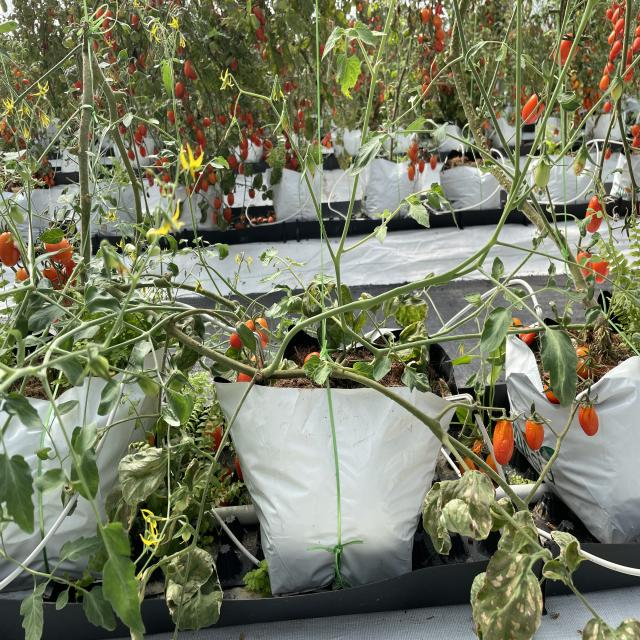Soilbag: (215, 383, 445, 601), (0, 332, 169, 586), (543, 356, 640, 544), (505, 335, 571, 475)
plant: (230, 33, 417, 377), (16, 26, 177, 344), (528, 40, 640, 352)
